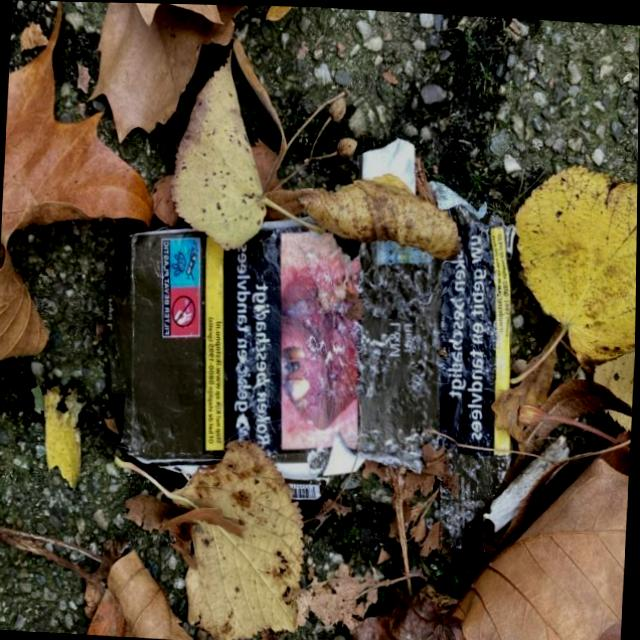Paper: (91, 119, 528, 516)
